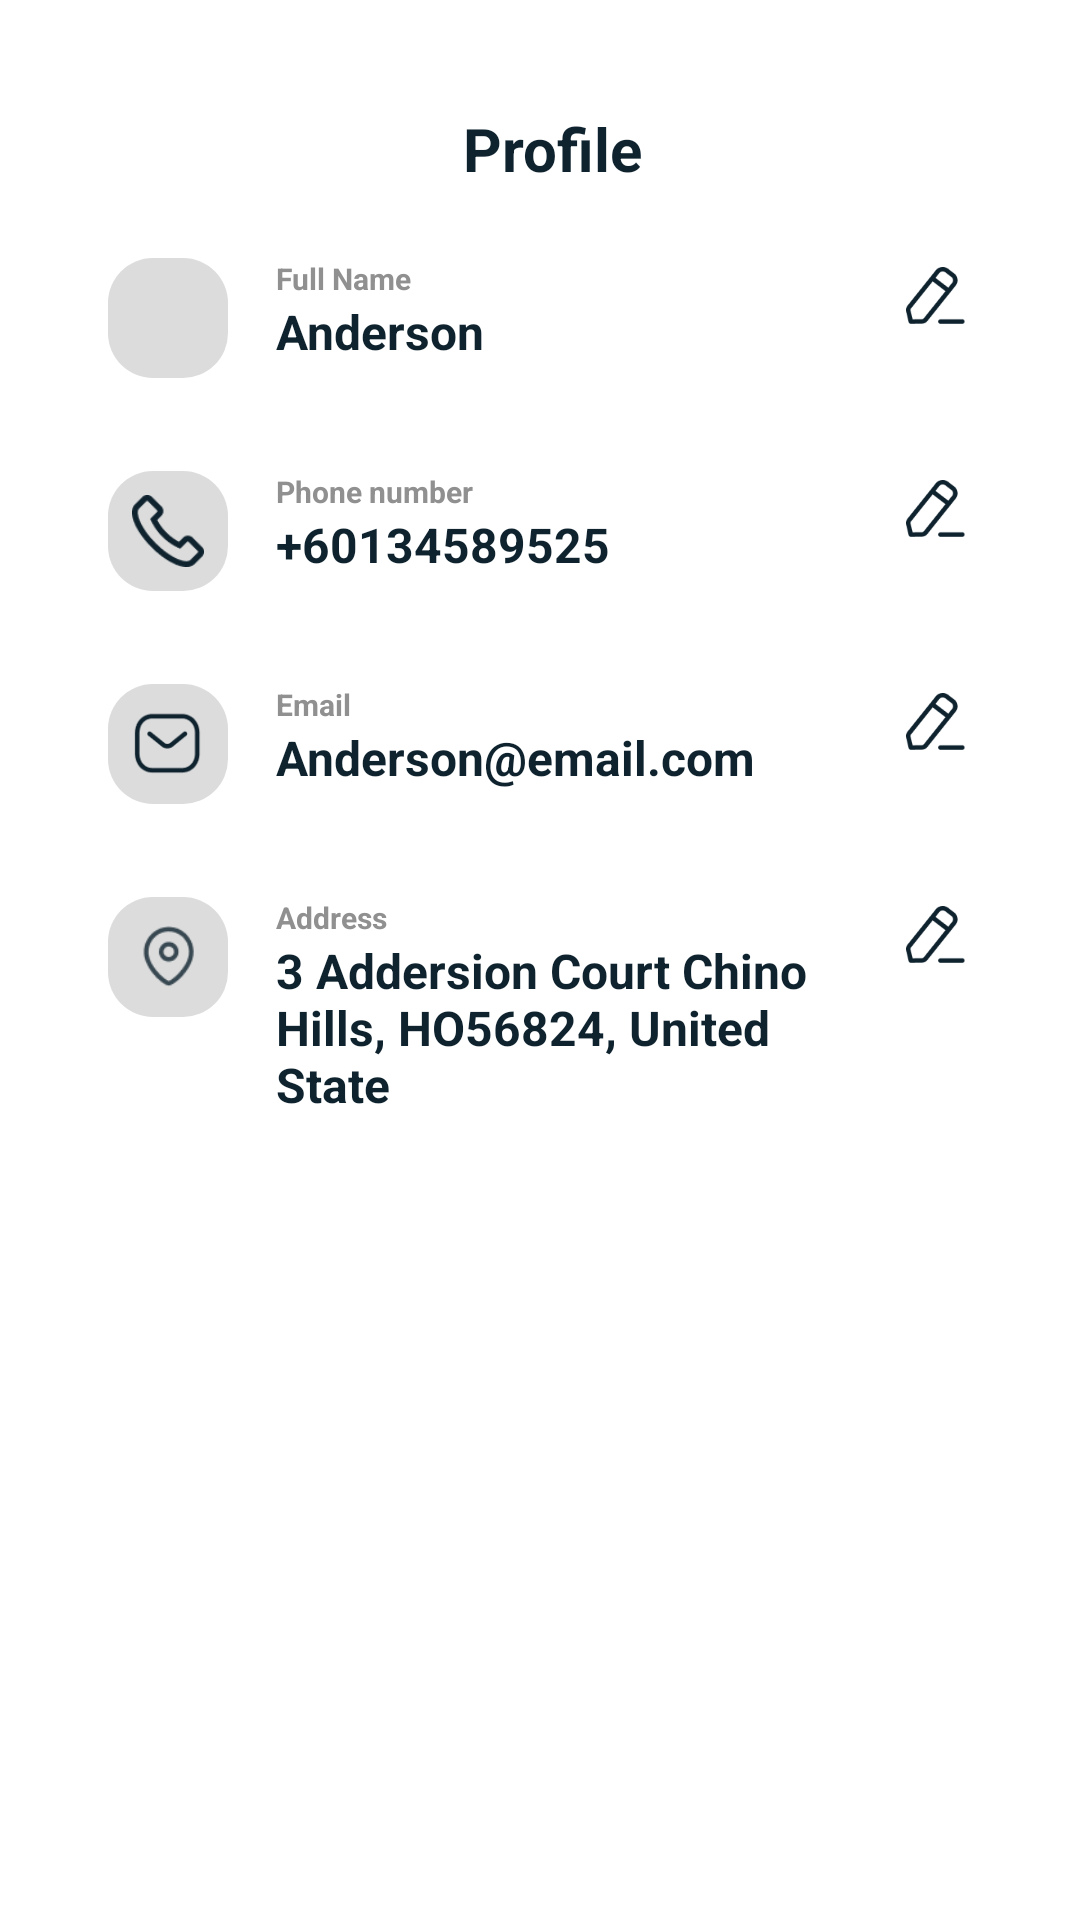

Icon click points for this 1080*1920 phone screenshot, format (x,y):
Edit Icon: (935,295), (935,508), (935,721), (935,934)
Location Icon: (168,957)
